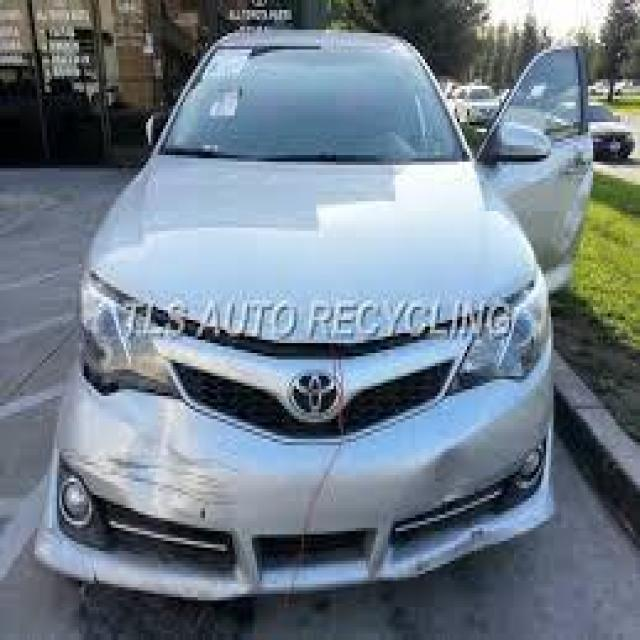damaged: (71, 280, 248, 528)
